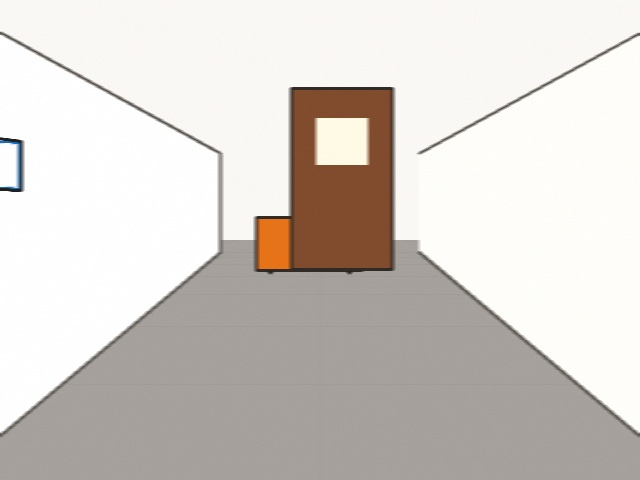cart: (256, 217, 362, 270)
directional_sign: (0, 130, 21, 190)
door: (291, 88, 392, 269)
